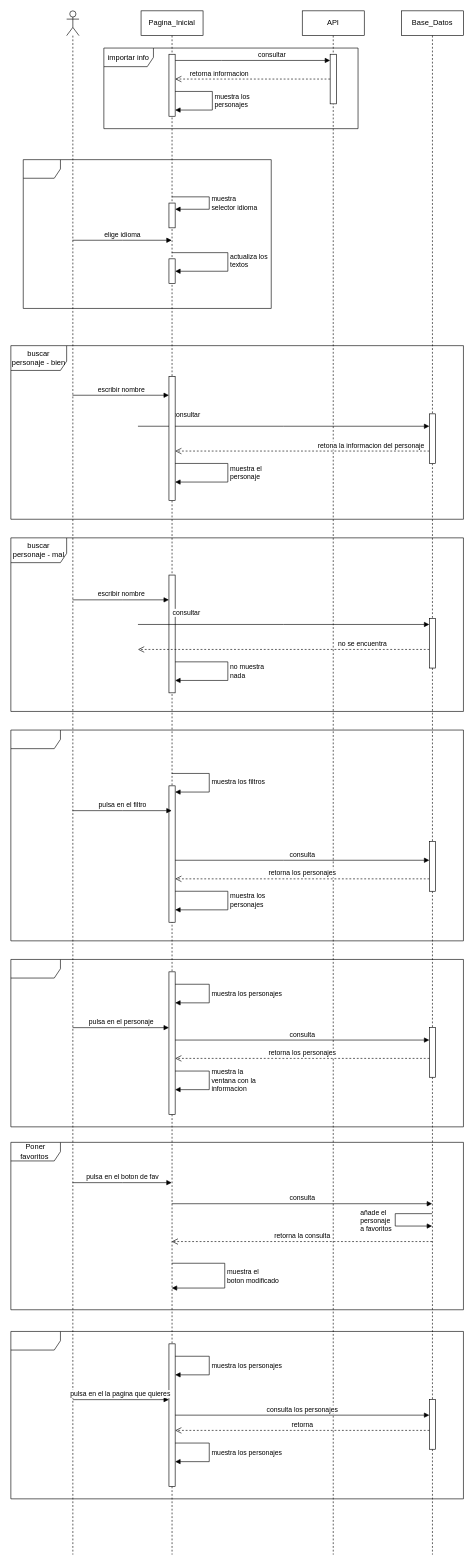
Some shapes in this 474 by 1566 pixel diagram are drawn without their labels. The box of each missing label's shape, as (x1, y1, x2, y2) in pixels:
cambio idioma: (23, 159, 271, 308)
Filtrar personajes: (10, 729, 463, 941)
Mostrar detalles: (10, 959, 463, 1127)
Pasar de pagina: (10, 1331, 463, 1499)
